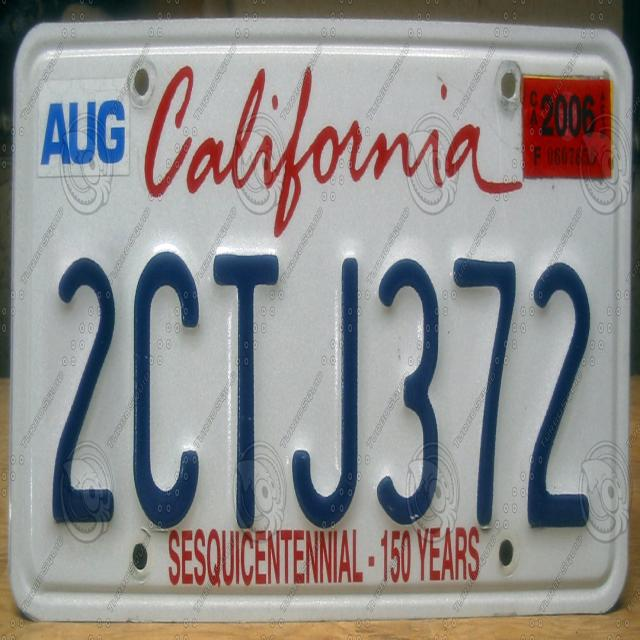placa: (28, 227, 604, 535)
